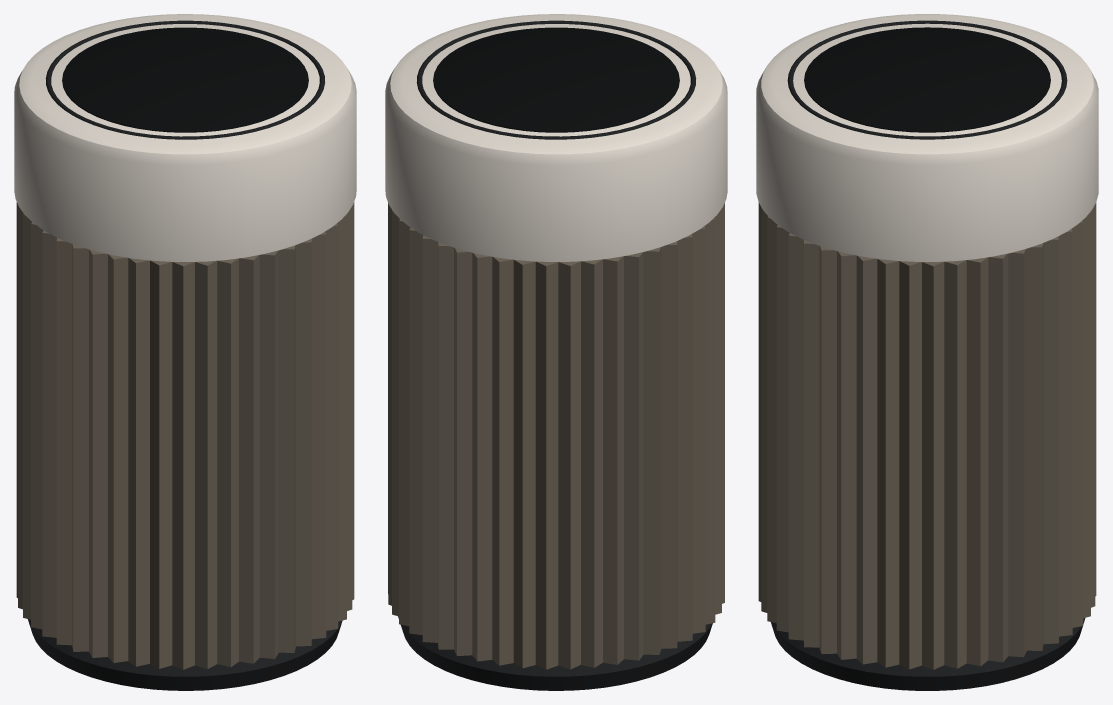
Rendered from AS206NSHA.glb.
3 views of the same model, side by side, from view 1: azimuth 30°, elevation 25°; view 2: azimuth 150°, elevation 25°; view 3: azimuth 270°, elevation 25° (orthographic).
Parts seen in each view (by area): view 1: AS206NSHA; view 2: AS206NSHA; view 3: AS206NSHA.
Boxes of the visible parts, <box> form: AS206NSHA: <box>14,14,356,690</box>; AS206NSHA: <box>385,14,727,690</box>; AS206NSHA: <box>756,14,1098,690</box>.
Bounding box in the file's own units: 0.347 × 0.612 × 0.347.
